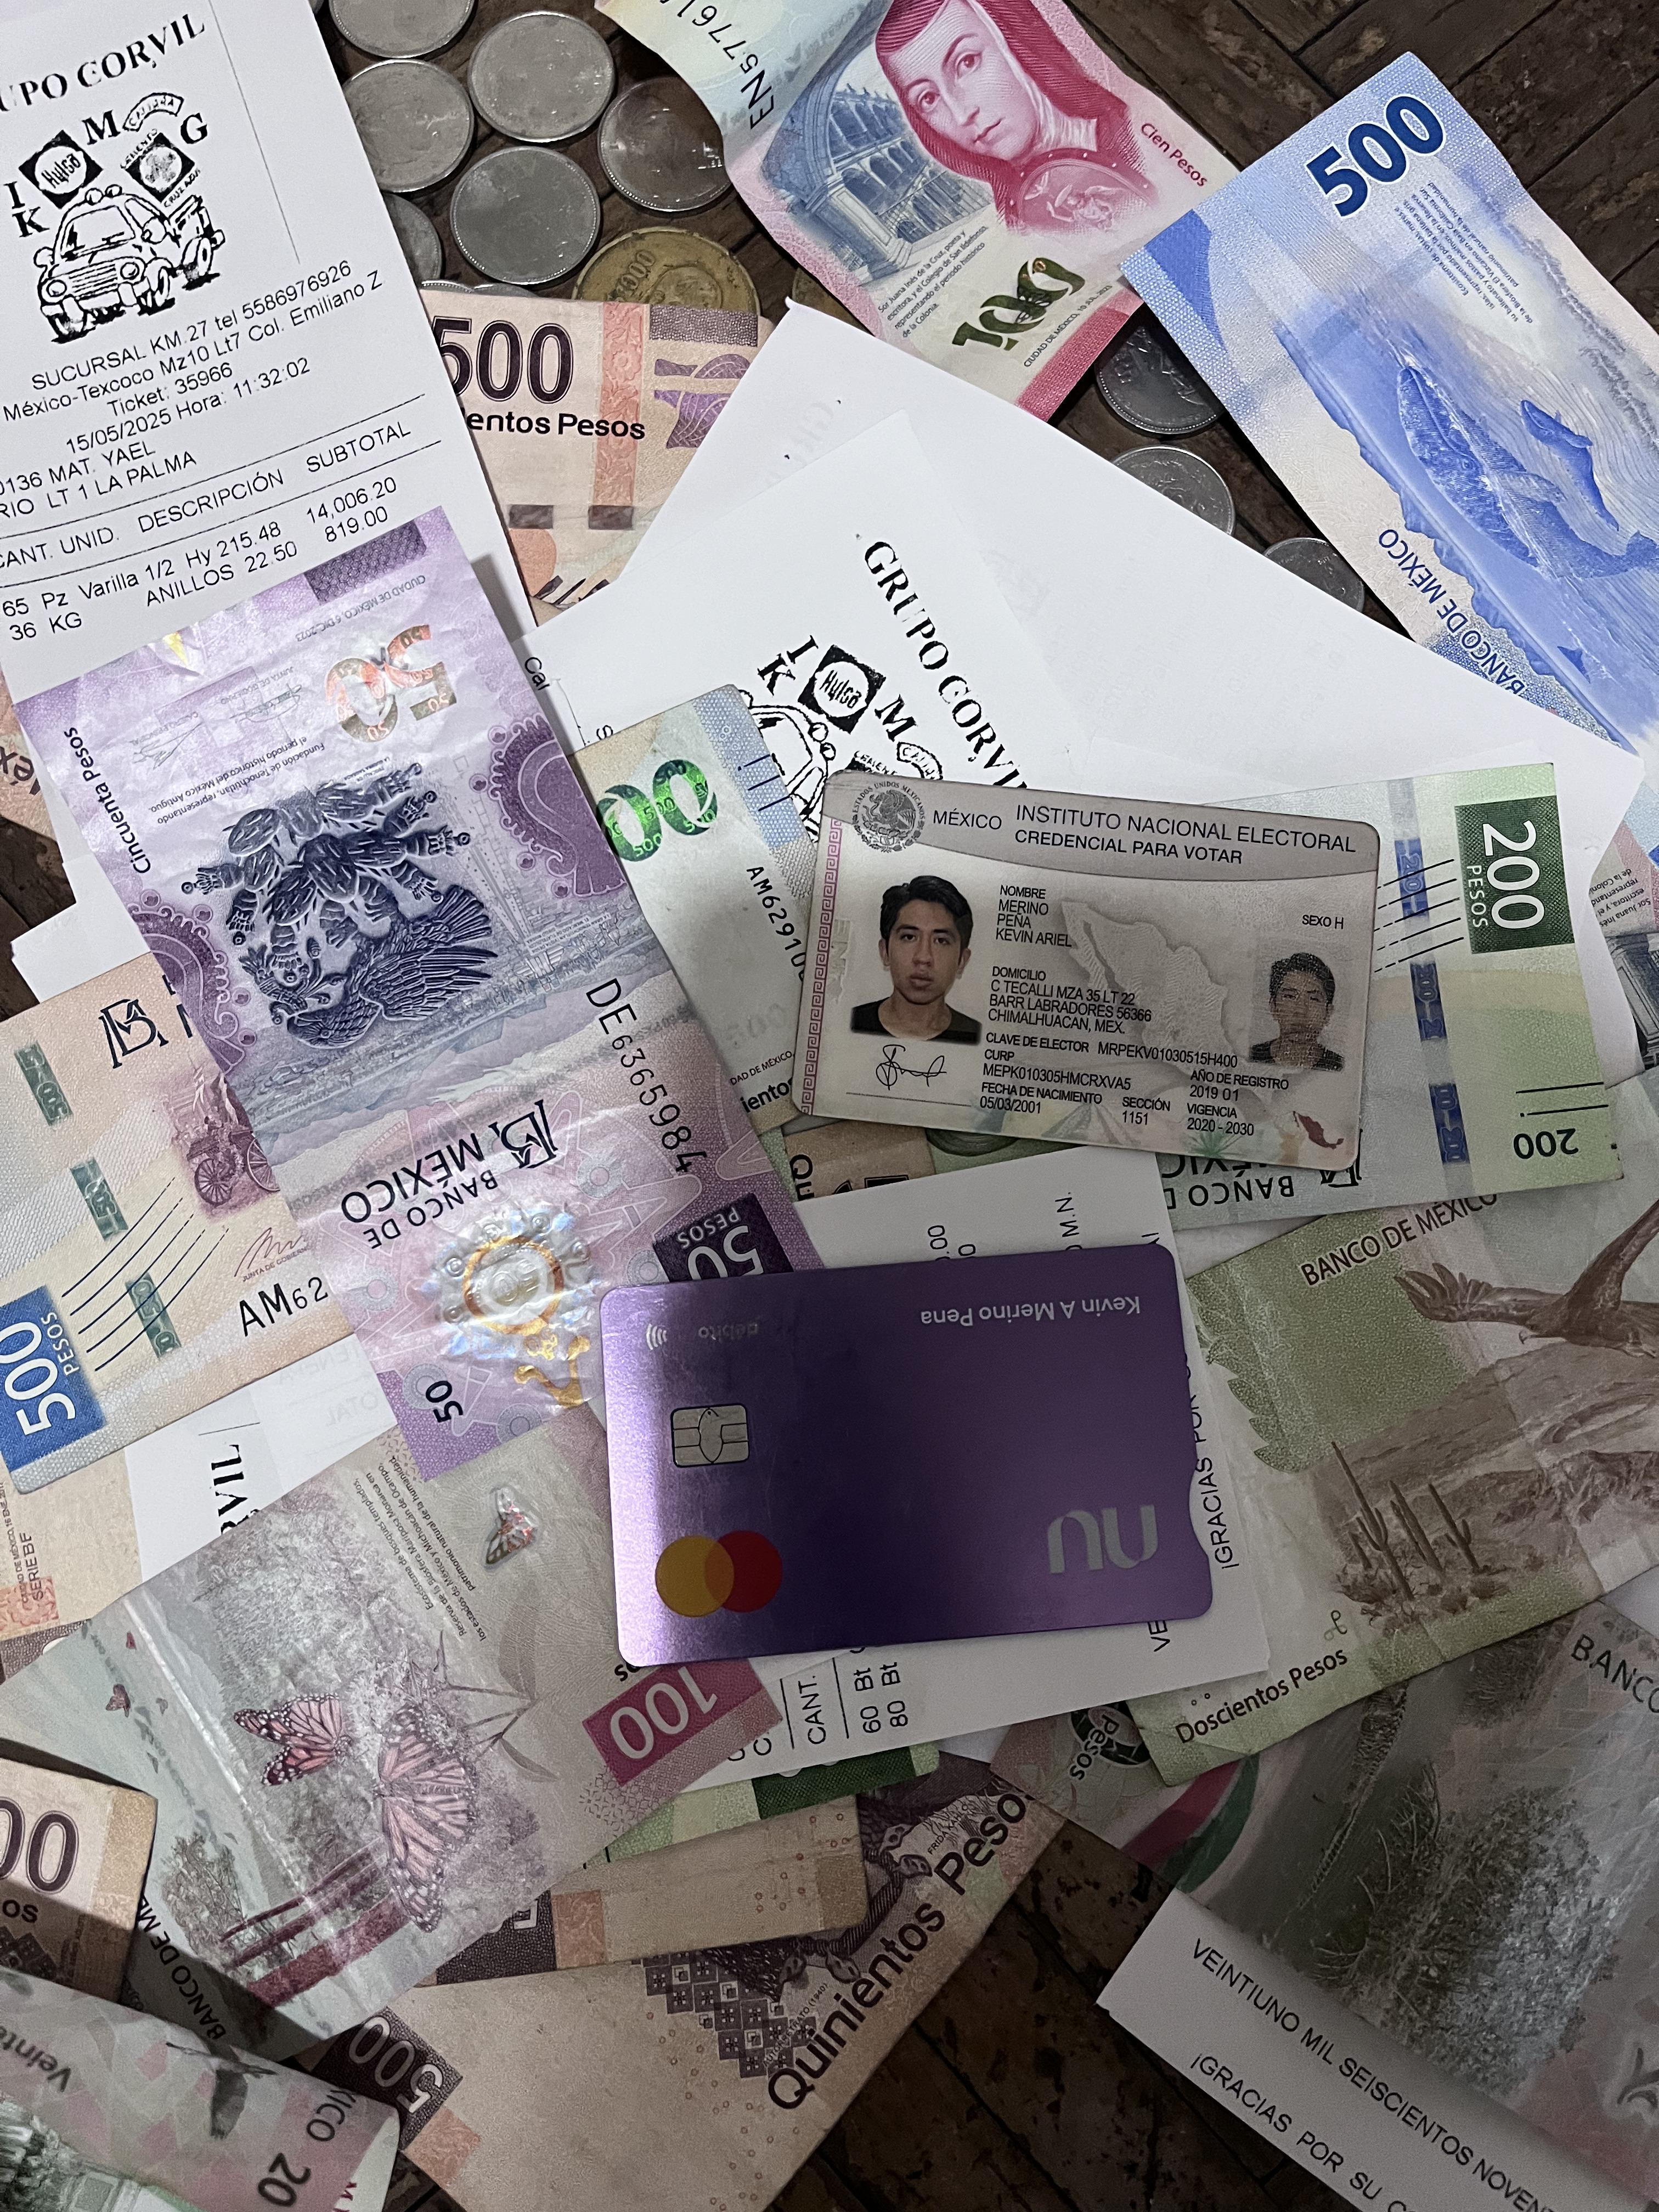100: (10, 1355, 807, 2067), (525, 0, 1232, 458)
20: (960, 1508, 1659, 2212), (0, 2010, 434, 2212)
200: (1032, 1049, 1659, 1785), (918, 744, 1659, 1233)
50: (10, 543, 884, 1487)
500: (319, 1564, 1063, 2212), (300, 258, 889, 624)
500 nuevo: (1124, 38, 1659, 801)
